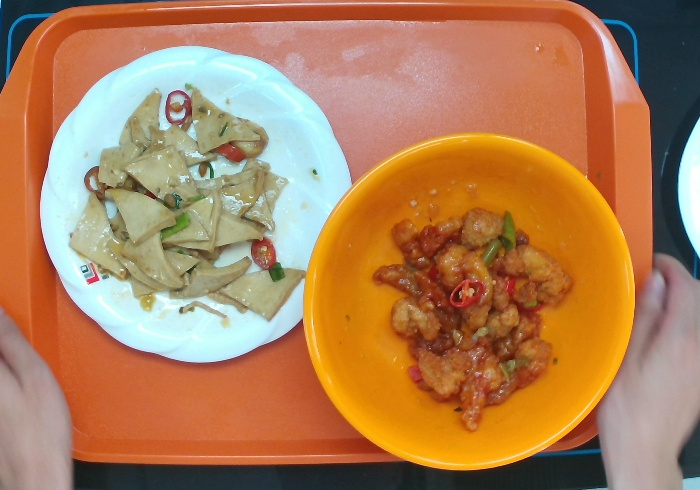ZNLD-Hua_Bian_Wan: (39, 41, 352, 366)
ZNLD-Ju_Se_Tang_Wan: (298, 129, 640, 474)
